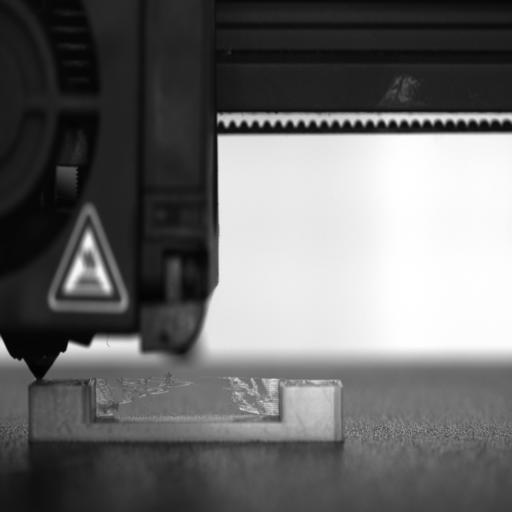spaghetti_and_stringing: (95, 374, 280, 416)
